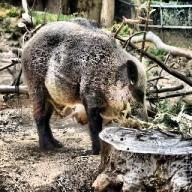boar: (17, 16, 150, 154)
